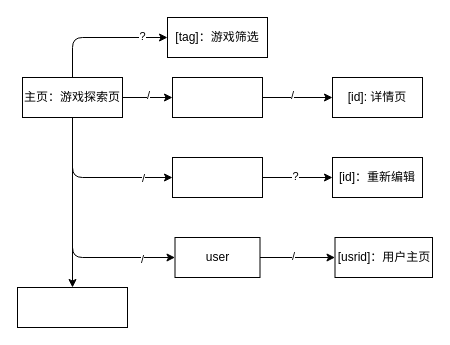
Image size: 450x345. Some labels were removed from this diagram. Here are the shapes that lost their labels. From the top down, the centre of each, then its label:
At [217,97]: "Games".
At [217,177]: "upload：上传页".
At [72,307]: "... 管理/社团页等".
